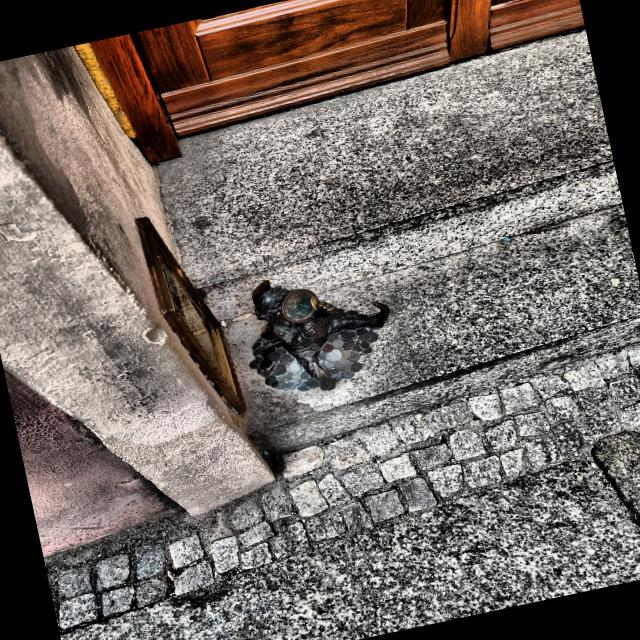Numizmatyk: (249, 279, 389, 391)
